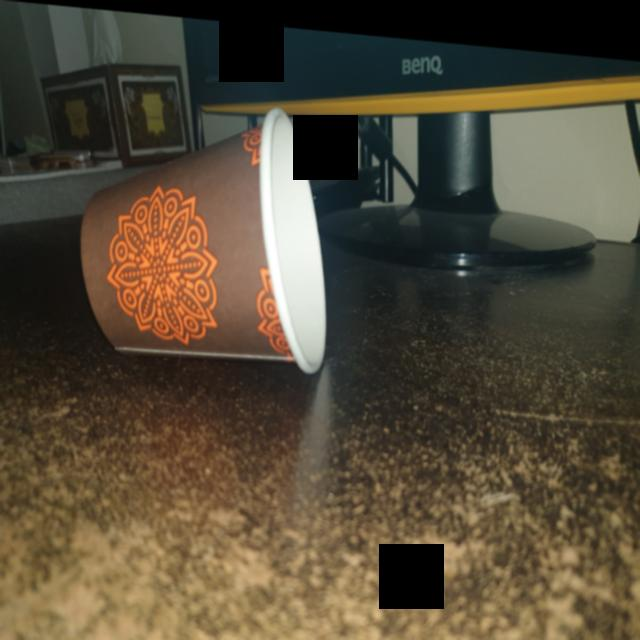cups: (72, 75, 336, 395)
